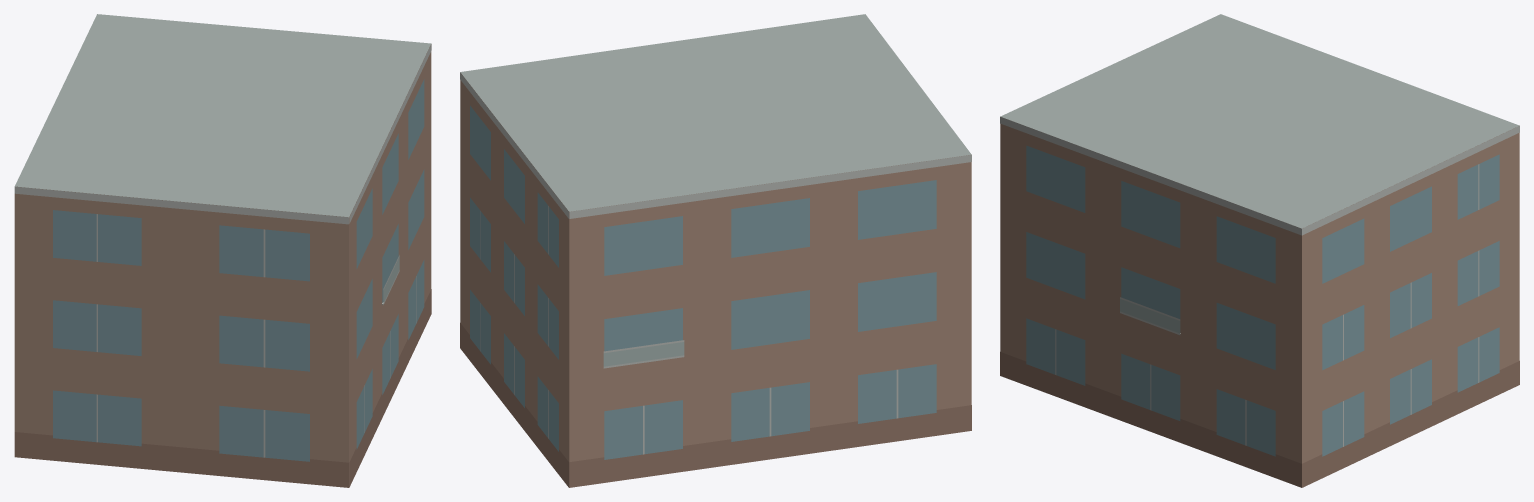
The model's file is survey-upis-32914185.glb.
3 views of the same model, side by side, from view 1: azimuth 30°, elevation 25°; view 2: azimuth 150°, elevation 25°; view 3: azimuth 270°, elevation 25° (orthographic). The views are drawn at different scales.
Visible parts, largest first — view 1: survey-upis-32914185.tmp; view 2: survey-upis-32914185.tmp; view 3: survey-upis-32914185.tmp.
Boxes of the visible parts, box(x1,y1,x2,y2) form: survey-upis-32914185.tmp: box(14, 14, 431, 487); survey-upis-32914185.tmp: box(460, 14, 971, 487); survey-upis-32914185.tmp: box(1000, 14, 1519, 487).
Size of the model in its own units: 16.25 by 9.15 by 16.63.
